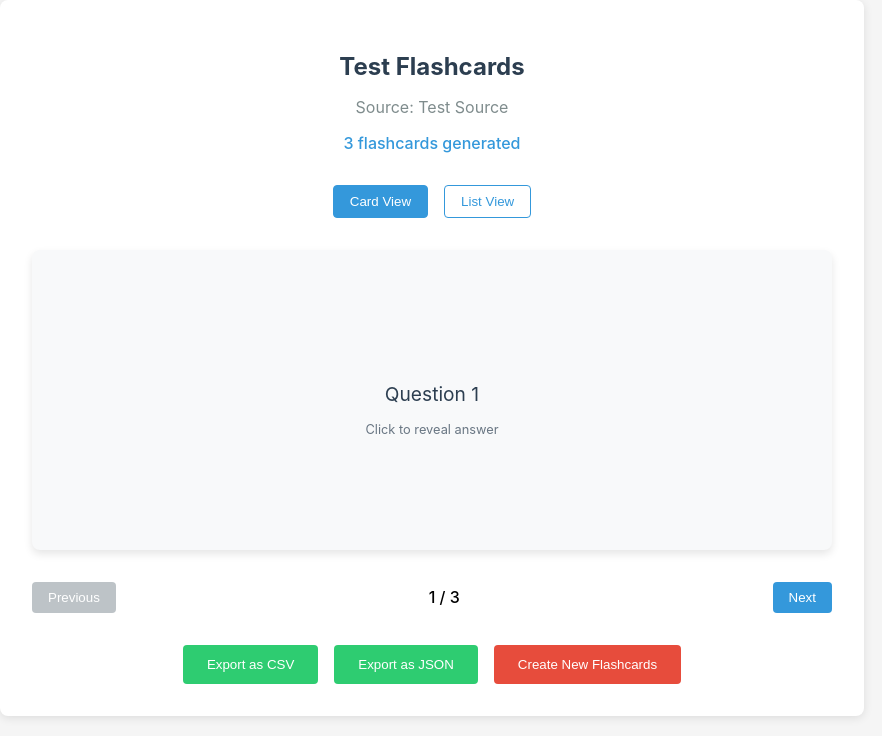
Test: FlashcardViewer Component › switches to list view
Click the button "List View": (488,201) [444,185,531,218]
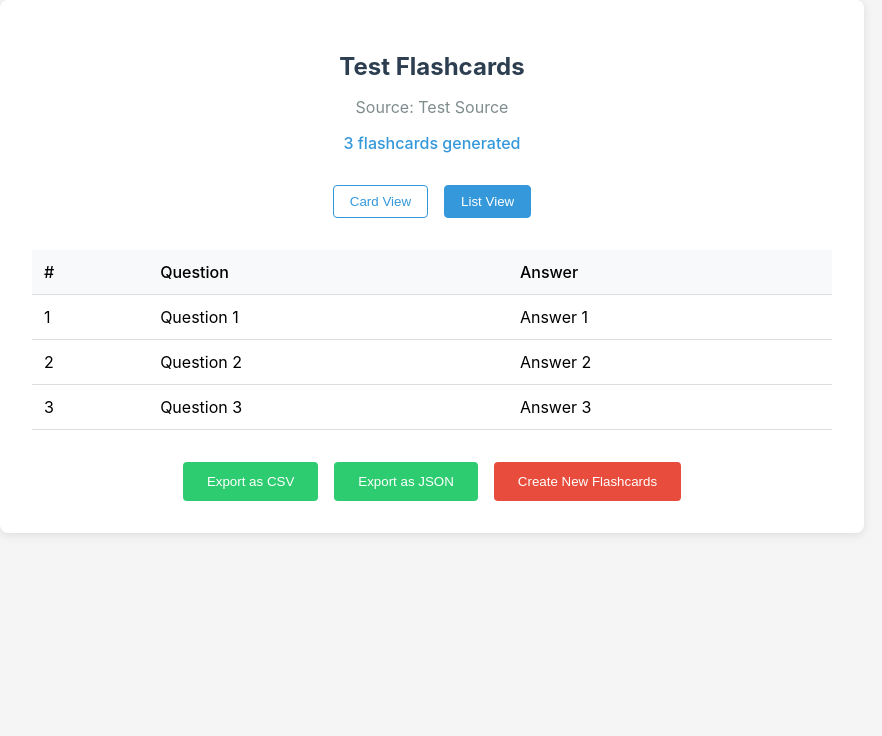
Now the table is shown, box [32,250,832,430]
Now the text "Answer 1" is shown, box [508,294,832,339]
Now the text "Question 2" is shown, box [148,339,508,384]
